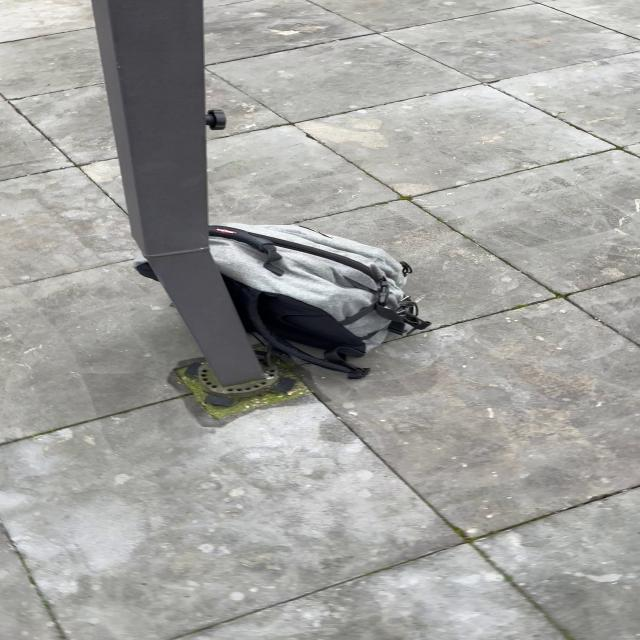backpack: (130, 217, 434, 383)
